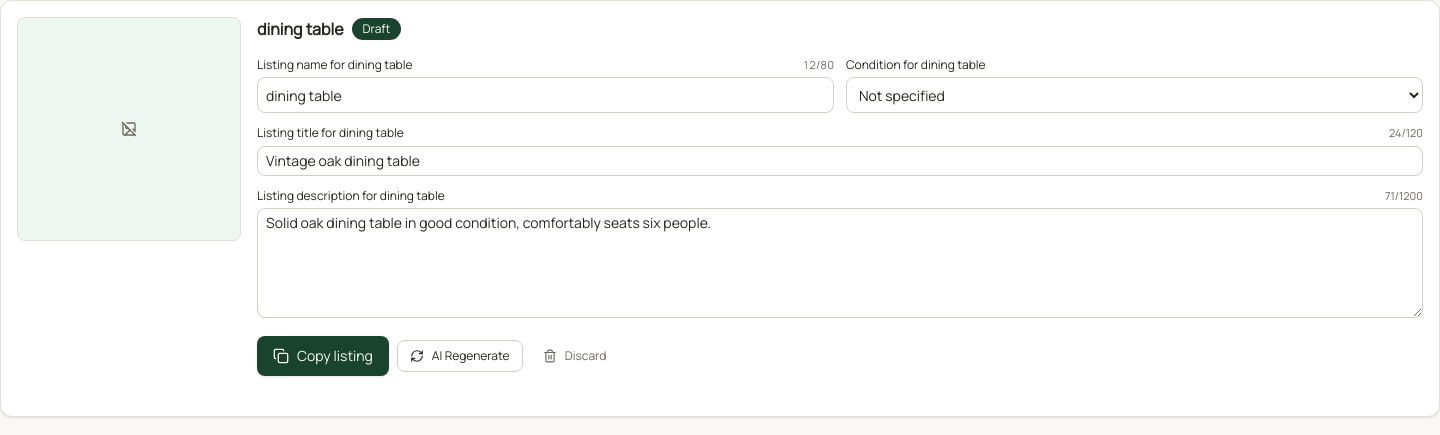
it: ListingDraftCard › copy listing › a rejected write shows a generic message and never the raw browser error
Click the button "Copy listing" at (323, 356), box [257,336,389,376]
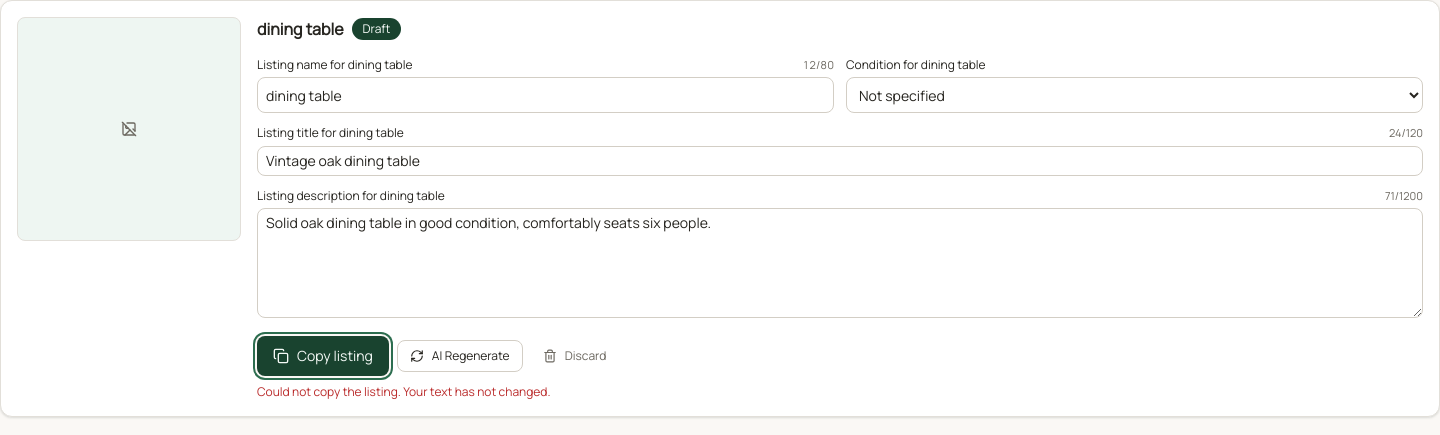
Expected: the text "Could not copy the listing. Your text has not changed." is shown, [257,383,550,400]
